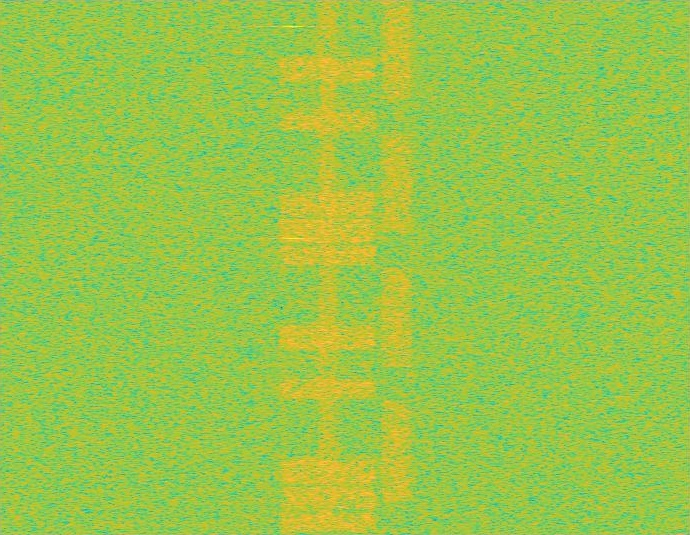5G: (380, 0, 414, 534)
DSSS: (316, 0, 339, 534)
LTE: (276, 0, 380, 534)
Radar: (286, 0, 300, 534)
